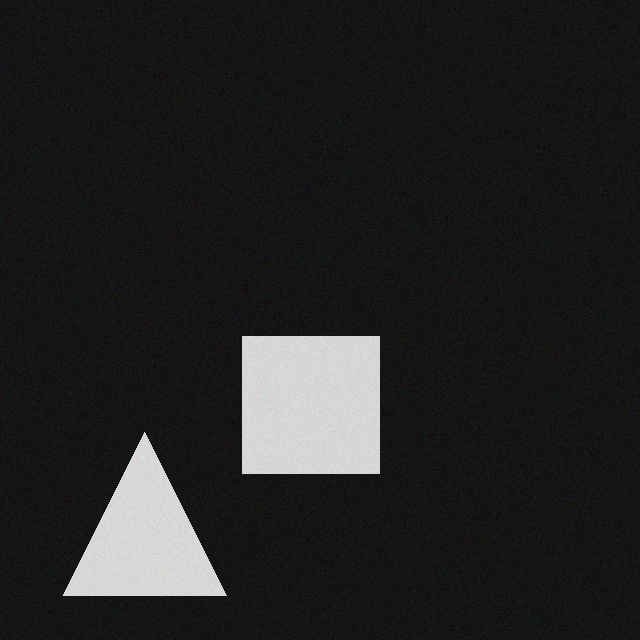square: (241, 337, 378, 474)
triangle: (62, 433, 225, 596)
